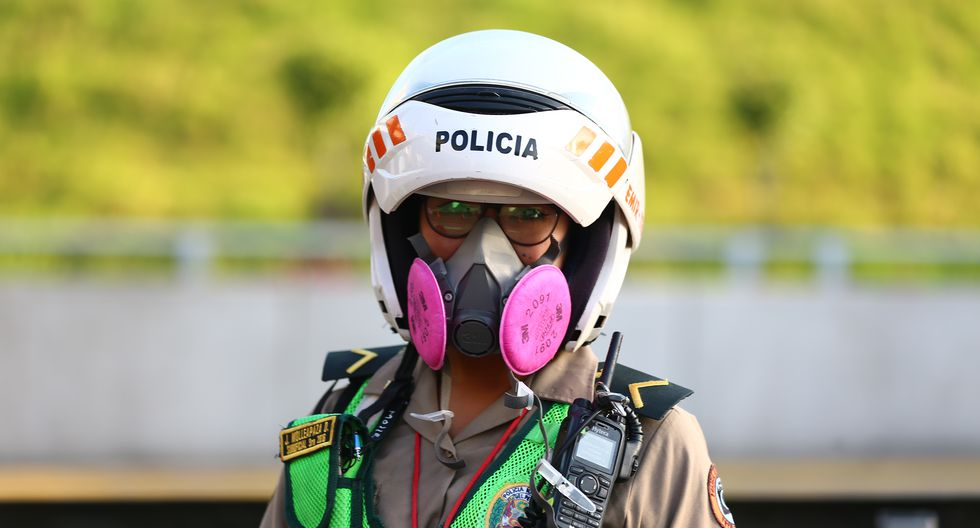with_mask: (329, 36, 665, 436)
